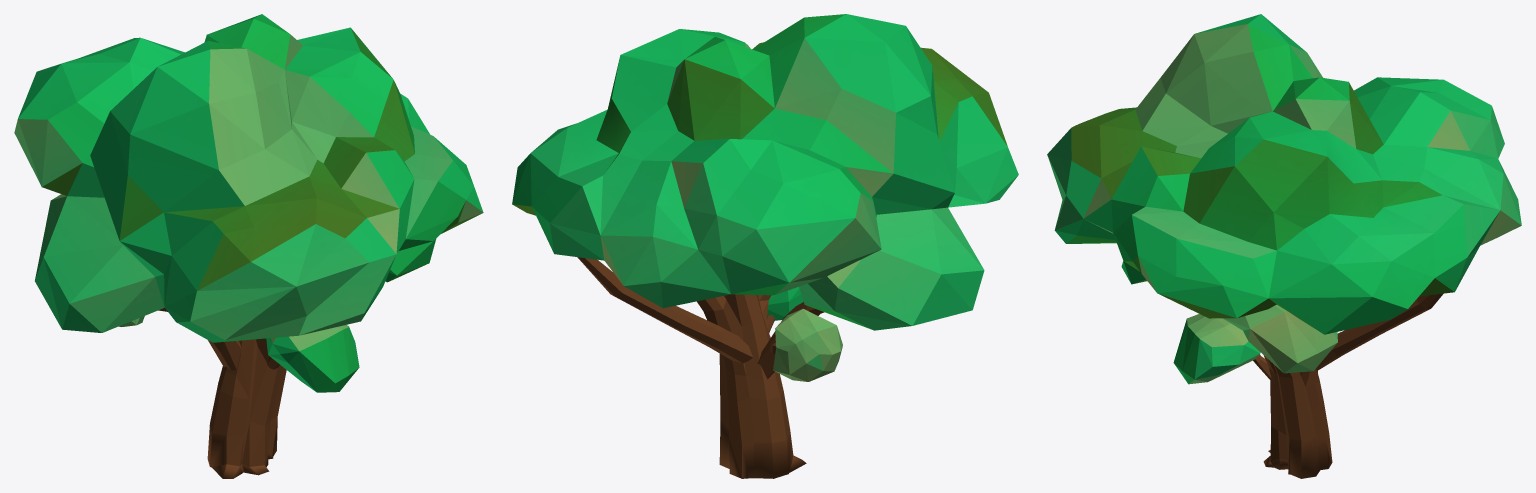
The model's file is tree.glb.
The picture shows the model from 3 angles, left to right: view 1: azimuth 30°, elevation 25°; view 2: azimuth 150°, elevation 25°; view 3: azimuth 270°, elevation 25°; orthographic projection. The views are drawn at different scales.
Parts seen in each view (by area): view 1: TreeTrimmed; view 2: TreeTrimmed; view 3: TreeTrimmed.
Boxes of the visible parts, x1,y1,x2,y2 form: TreeTrimmed: (14, 14, 483, 478); TreeTrimmed: (512, 14, 1018, 478); TreeTrimmed: (1047, 14, 1521, 478).
Bounding box in the file's own units: 0.846 × 0.8988 × 0.9386.
1 material, 1 textured.
